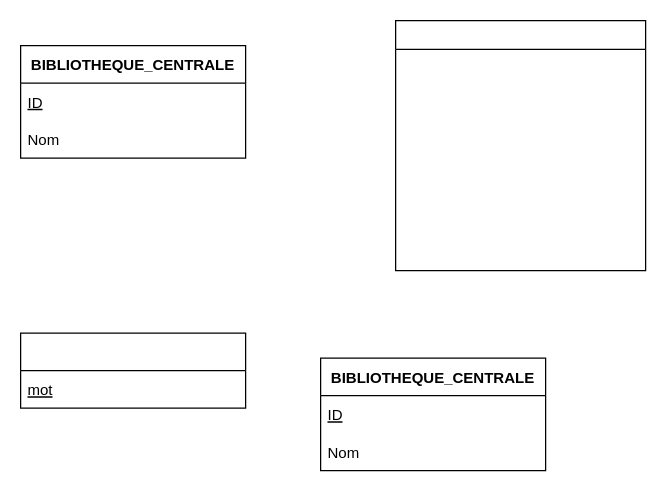
This 666x491 diagram has some shape labels left out. Here are the shapes that lost their labels. From the top down, the box of each, then its label:
(394, 19, 646, 271): OUVRAGE
(19, 332, 246, 408): MOT_CLE
